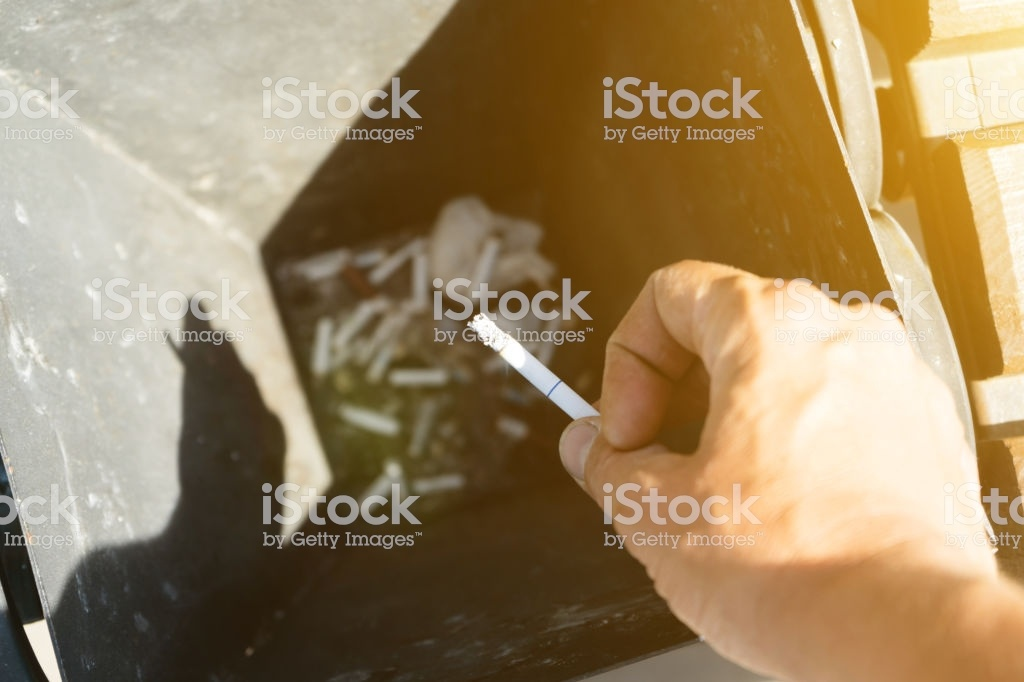sigaretta: (470, 315, 602, 425)
